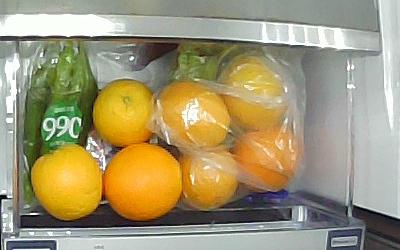orange: (102, 141, 183, 220), (29, 141, 102, 220), (91, 77, 156, 146)
orange_vinyl: (220, 55, 288, 132), (155, 79, 230, 147), (228, 123, 301, 191), (177, 144, 238, 209)
